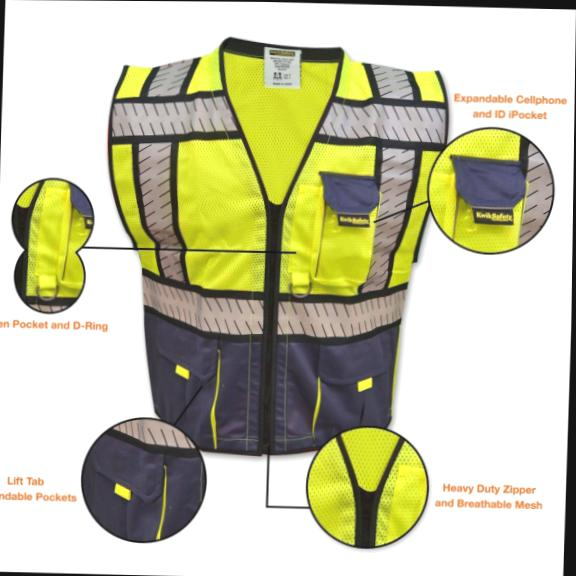safety_vest: (95, 27, 454, 465)
